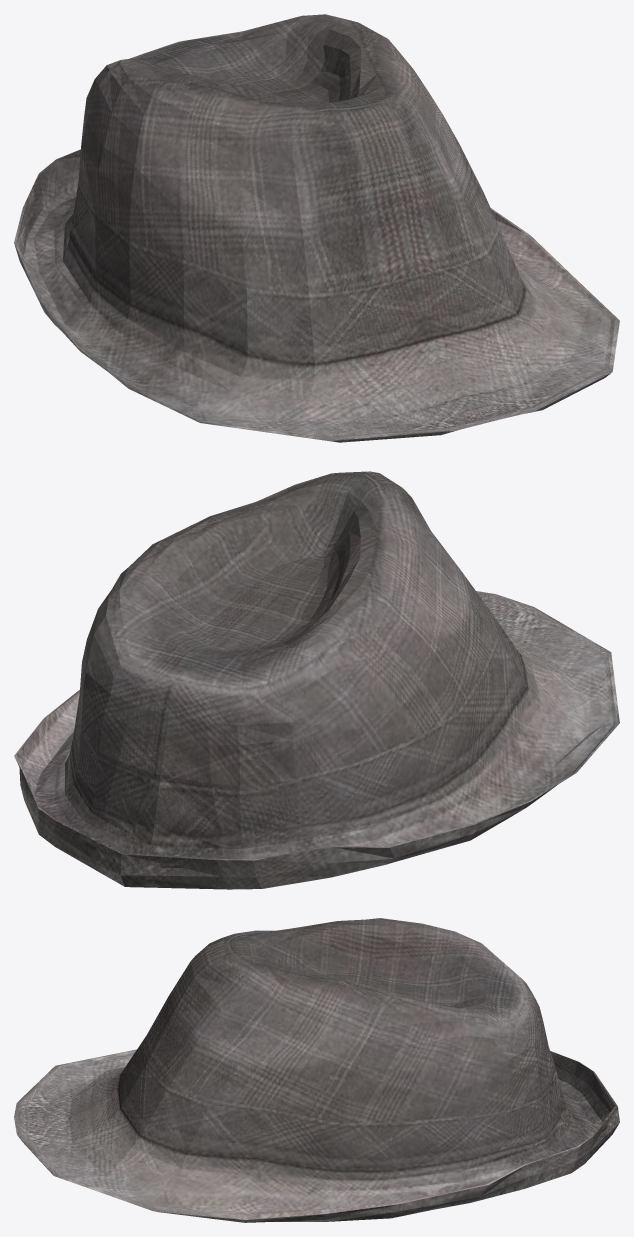
The model's file is mhw_fedora01.glb.
The picture shows the model from 3 angles, top to bottom: view 1: azimuth 30°, elevation 25°; view 2: azimuth 150°, elevation 25°; view 3: azimuth 270°, elevation 25°; orthographic projection. The views are drawn at different scales.
Parts seen in each view (by area): view 1: mhw_fedora01; view 2: mhw_fedora01; view 3: mhw_fedora01.
Part boxes in pixels (<box>): mhw_fedora01: <box>14,14,619,442</box>; mhw_fedora01: <box>14,471,619,889</box>; mhw_fedora01: <box>14,918,619,1222</box>.
Size of the model in its own units: 0.1993 by 0.104 by 0.2864.
1 material, 1 textured.
